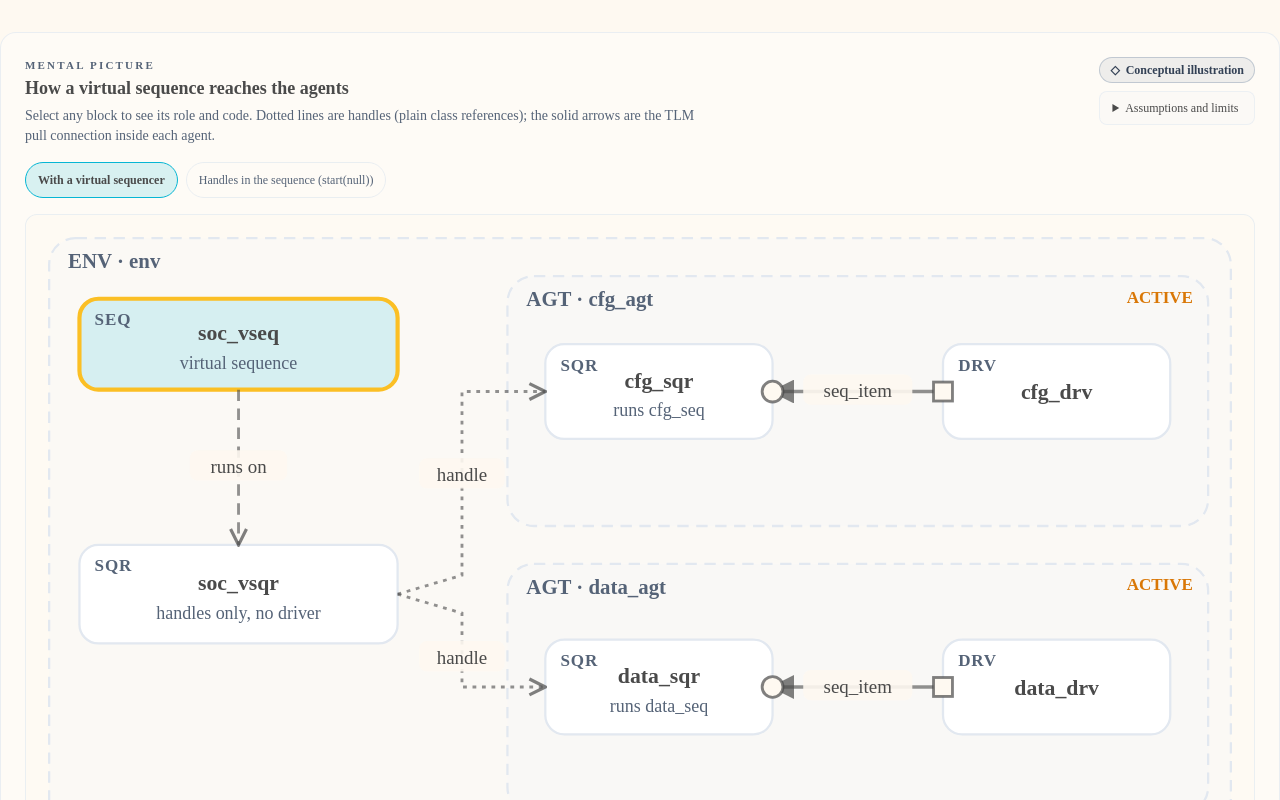
UvmVirtualSequencerDiagram › blocks are keyboard selectable and show their code
Press Enter in the button "SQR soc_vsqr", box x1=95 y1=556 x2=321 y2=622
(page scrolled)
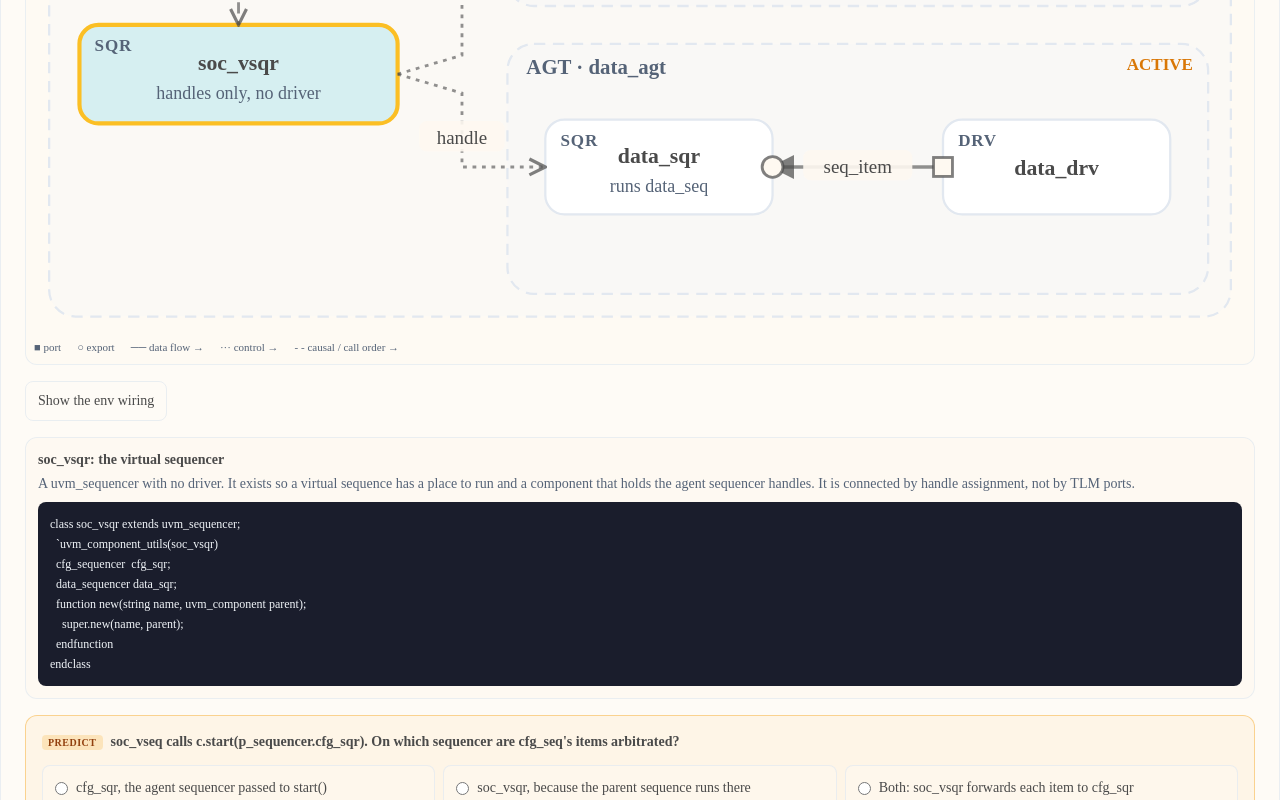
Check: the text "soc_vsqr: the virtual sequencer" is shown, box x1=38 y1=452 x2=224 y2=467
Check: the text "cfg_sequencer cfg_sqr;" is shown, box x1=50 y1=517 x2=306 y2=671
Click the button "Show the env wiring". click: (96, 401)
box: x1=25 y1=381 x2=167 y2=421
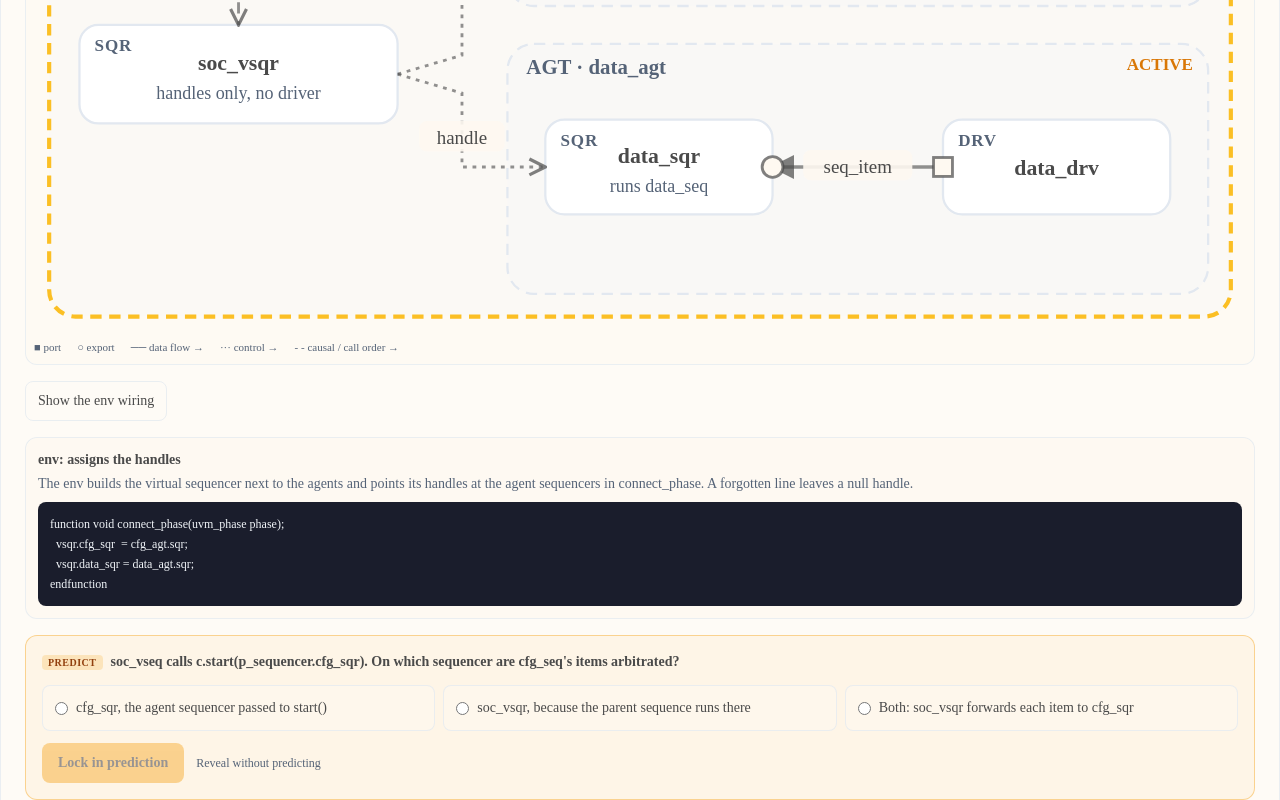
Check: the text "vsqr.data_sqr = data_agt.sqr;" is shown, box x1=50 y1=517 x2=284 y2=591
